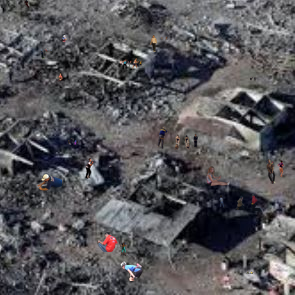Human: (85, 158, 107, 181), (169, 133, 198, 150), (235, 194, 262, 212), (206, 166, 230, 186), (120, 261, 143, 281), (37, 174, 62, 192), (97, 232, 118, 252), (119, 58, 145, 71), (149, 35, 168, 52), (264, 159, 276, 184), (18, 0, 37, 14), (157, 127, 168, 149), (31, 48, 52, 59), (277, 160, 284, 177), (120, 241, 127, 256), (219, 195, 225, 208), (56, 73, 63, 83), (68, 138, 78, 145), (60, 35, 67, 42), (21, 191, 28, 198), (246, 271, 256, 274), (250, 77, 256, 81), (109, 165, 112, 167), (254, 57, 255, 60)
